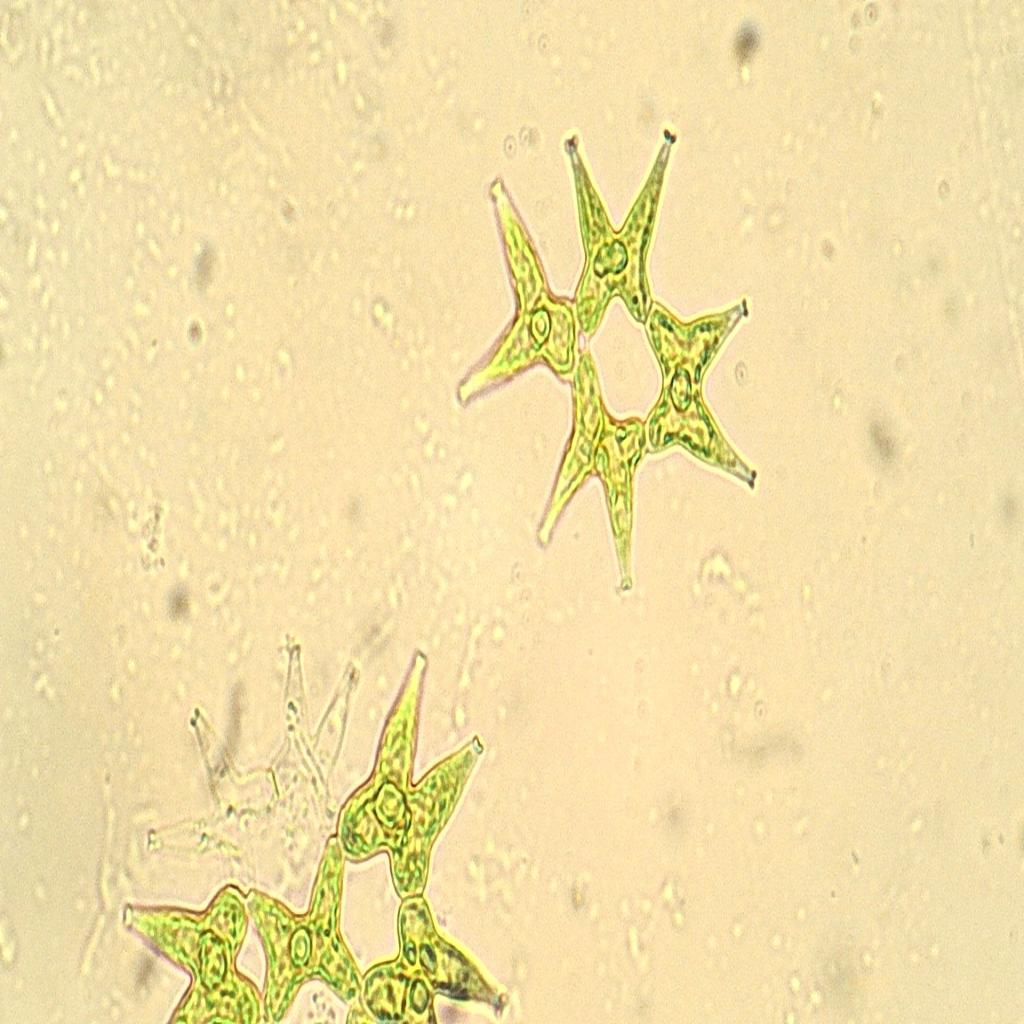Pediastrum_CT: (442, 115, 794, 619)
